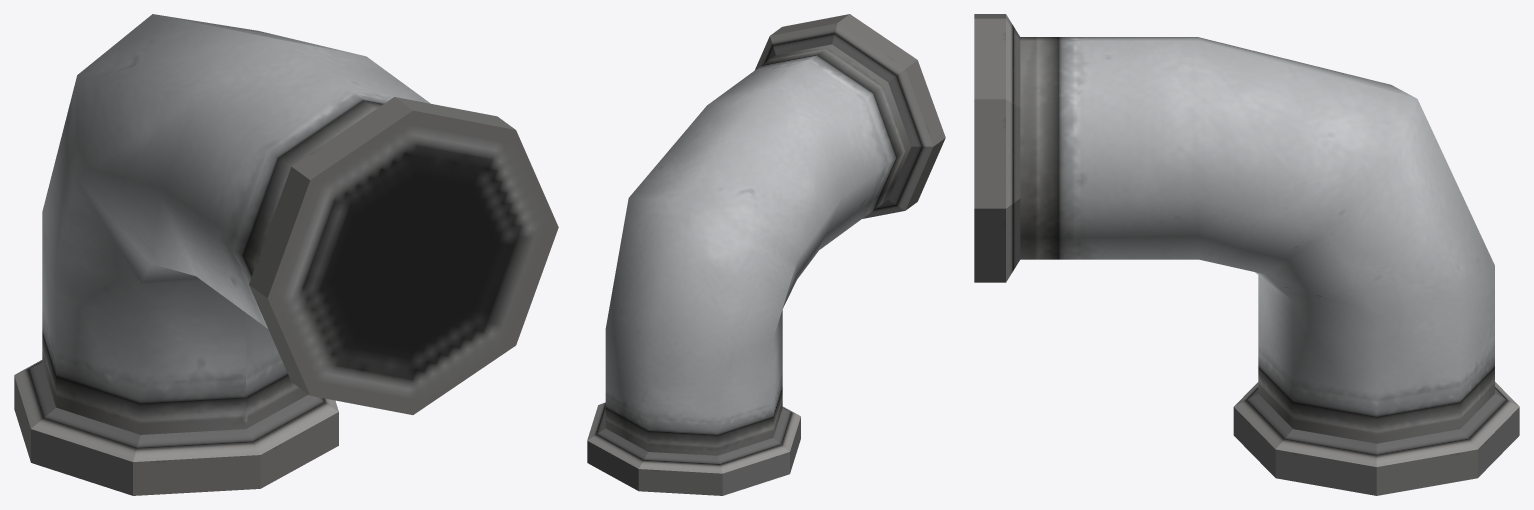
File: pipe_JI.glb
3 renders of one model, left to right at view 1: azimuth 30°, elevation 25°; view 2: azimuth 150°, elevation 25°; view 3: azimuth 270°, elevation 25°, orthographic. The views are drawn at different scales.
Parts seen in each view (by area): view 1: zhuti.II.004; view 2: zhuti.II.004; view 3: zhuti.II.004.
Part boxes in pixels (x1=…): zhuti.II.004: x1=14, y1=14, x2=558, y2=495; zhuti.II.004: x1=587, y1=14, x2=945, y2=495; zhuti.II.004: x1=974, y1=14, x2=1519, y2=495.
Size of the model in its own units: 3.55 by 5.71 by 6.78.
1 material, 1 textured.
